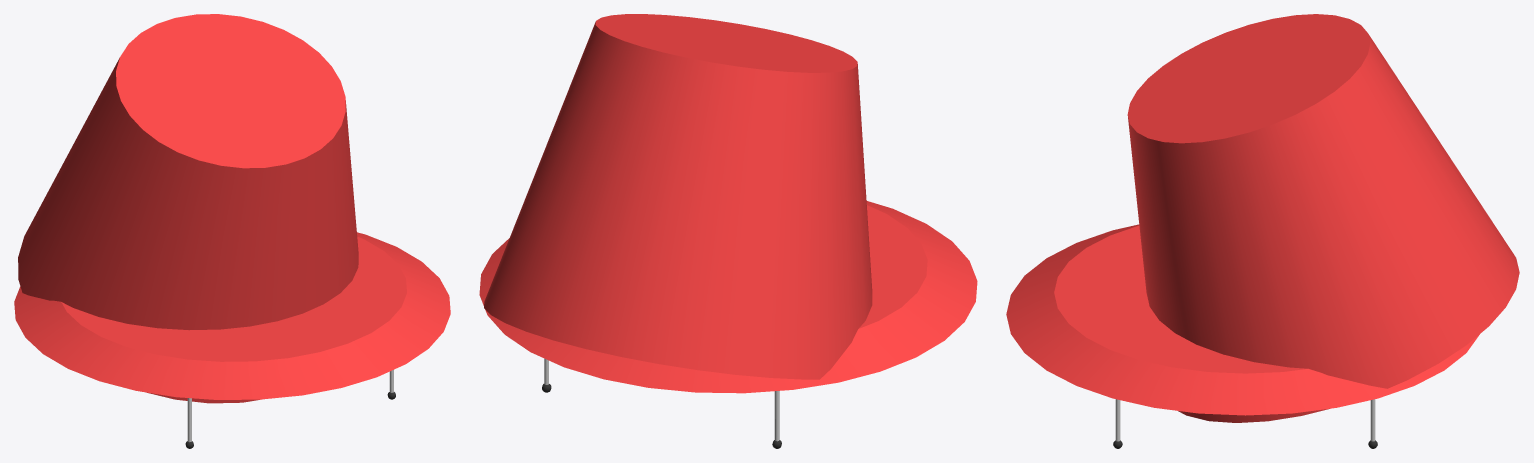
File: 임스플라스틱사이더체어DSR러스티오렌지_9d274b1a.glb
The picture shows the model from 3 angles, left to right: view 1: azimuth 30°, elevation 25°; view 2: azimuth 150°, elevation 25°; view 3: azimuth 270°, elevation 25°; orthographic projection. The views are drawn at different scales.
Size of the model in its own units: 3 by 2.43 by 3.22.
